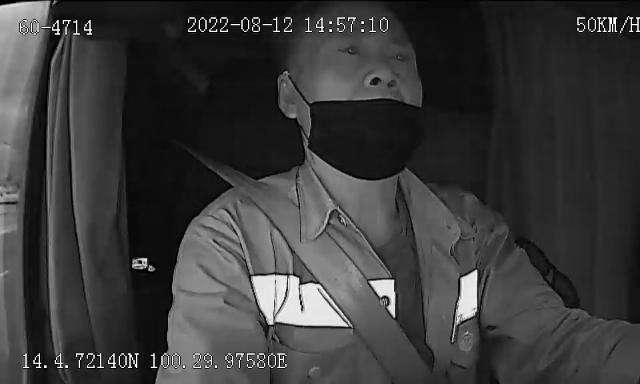SafeDriving: (382, 42, 414, 70), (336, 40, 368, 66)
Seatbelt: (182, 144, 432, 384)
